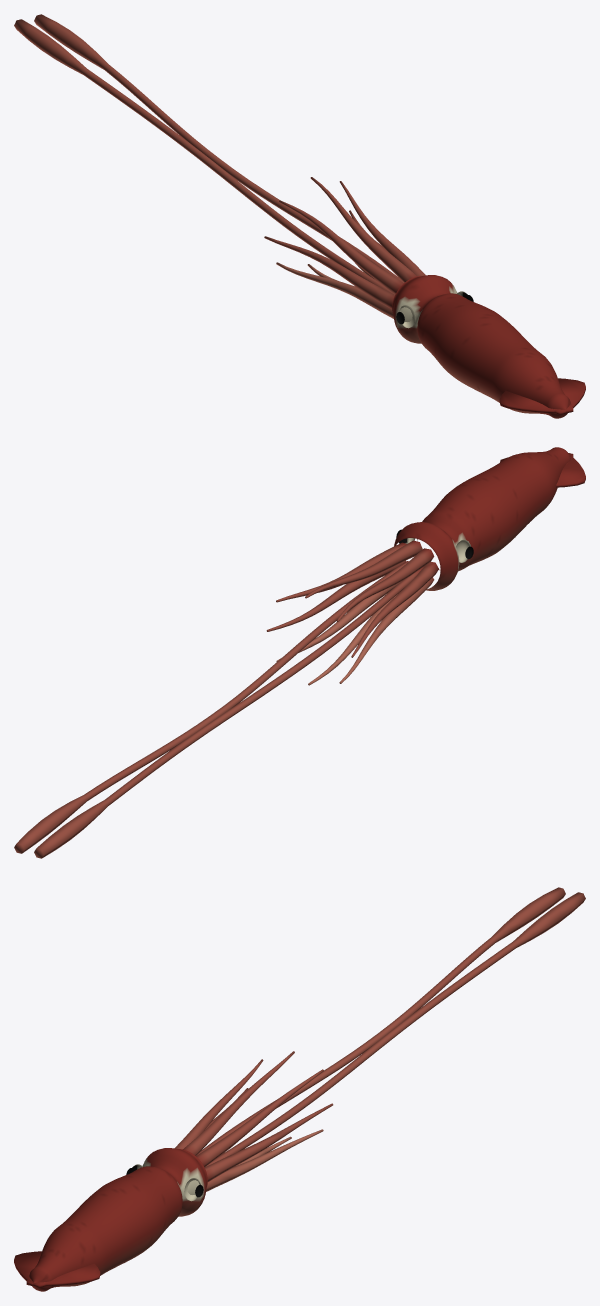
File: squid.glb
3 views of the same model, one above another, from view 1: azimuth 30°, elevation 25°; view 2: azimuth 150°, elevation 25°; view 3: azimuth 330°, elevation 25° (orthographic).
Parts seen in each view (by area): view 1: squid; view 2: squid; view 3: squid.
Boxes of the visible parts, left/top/right/bottom form: squid: left=14, top=14, right=585, bottom=418; squid: left=14, top=447, right=585, bottom=858; squid: left=14, top=887, right=585, bottom=1291.
Size of the model in its own units: 0.0932 by 0.0904 by 1.
